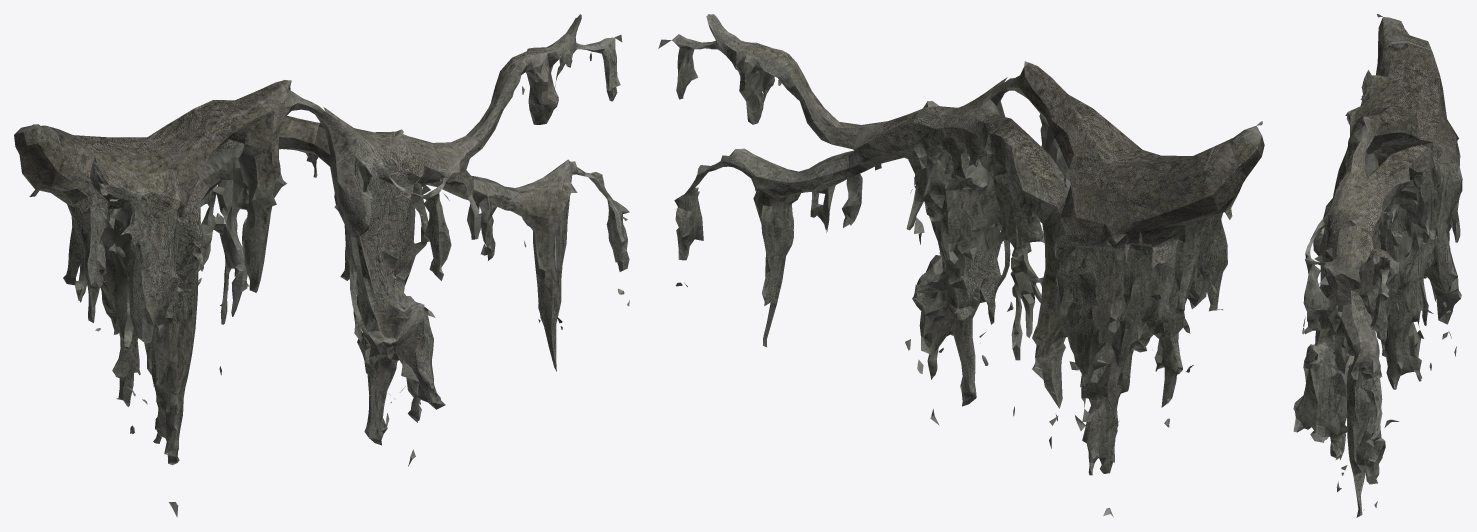
The picture shows the model from 3 angles, left to right: view 1: azimuth 30°, elevation 25°; view 2: azimuth 150°, elevation 25°; view 3: azimuth 270°, elevation 25°; orthographic projection. The views are drawn at different scales.
Parts seen in each view (by area): view 1: m19.glb; view 2: m19.glb; view 3: m19.glb.
Boxes of the visible parts, <box> form: m19.glb: <box>14,14,629,517</box>; m19.glb: <box>658,14,1264,517</box>; m19.glb: <box>1293,14,1462,517</box>.
Bounding box in the file's own units: 1.75 × 1.18 × 0.5094.
Materials: 1 (1 with a texture image).
